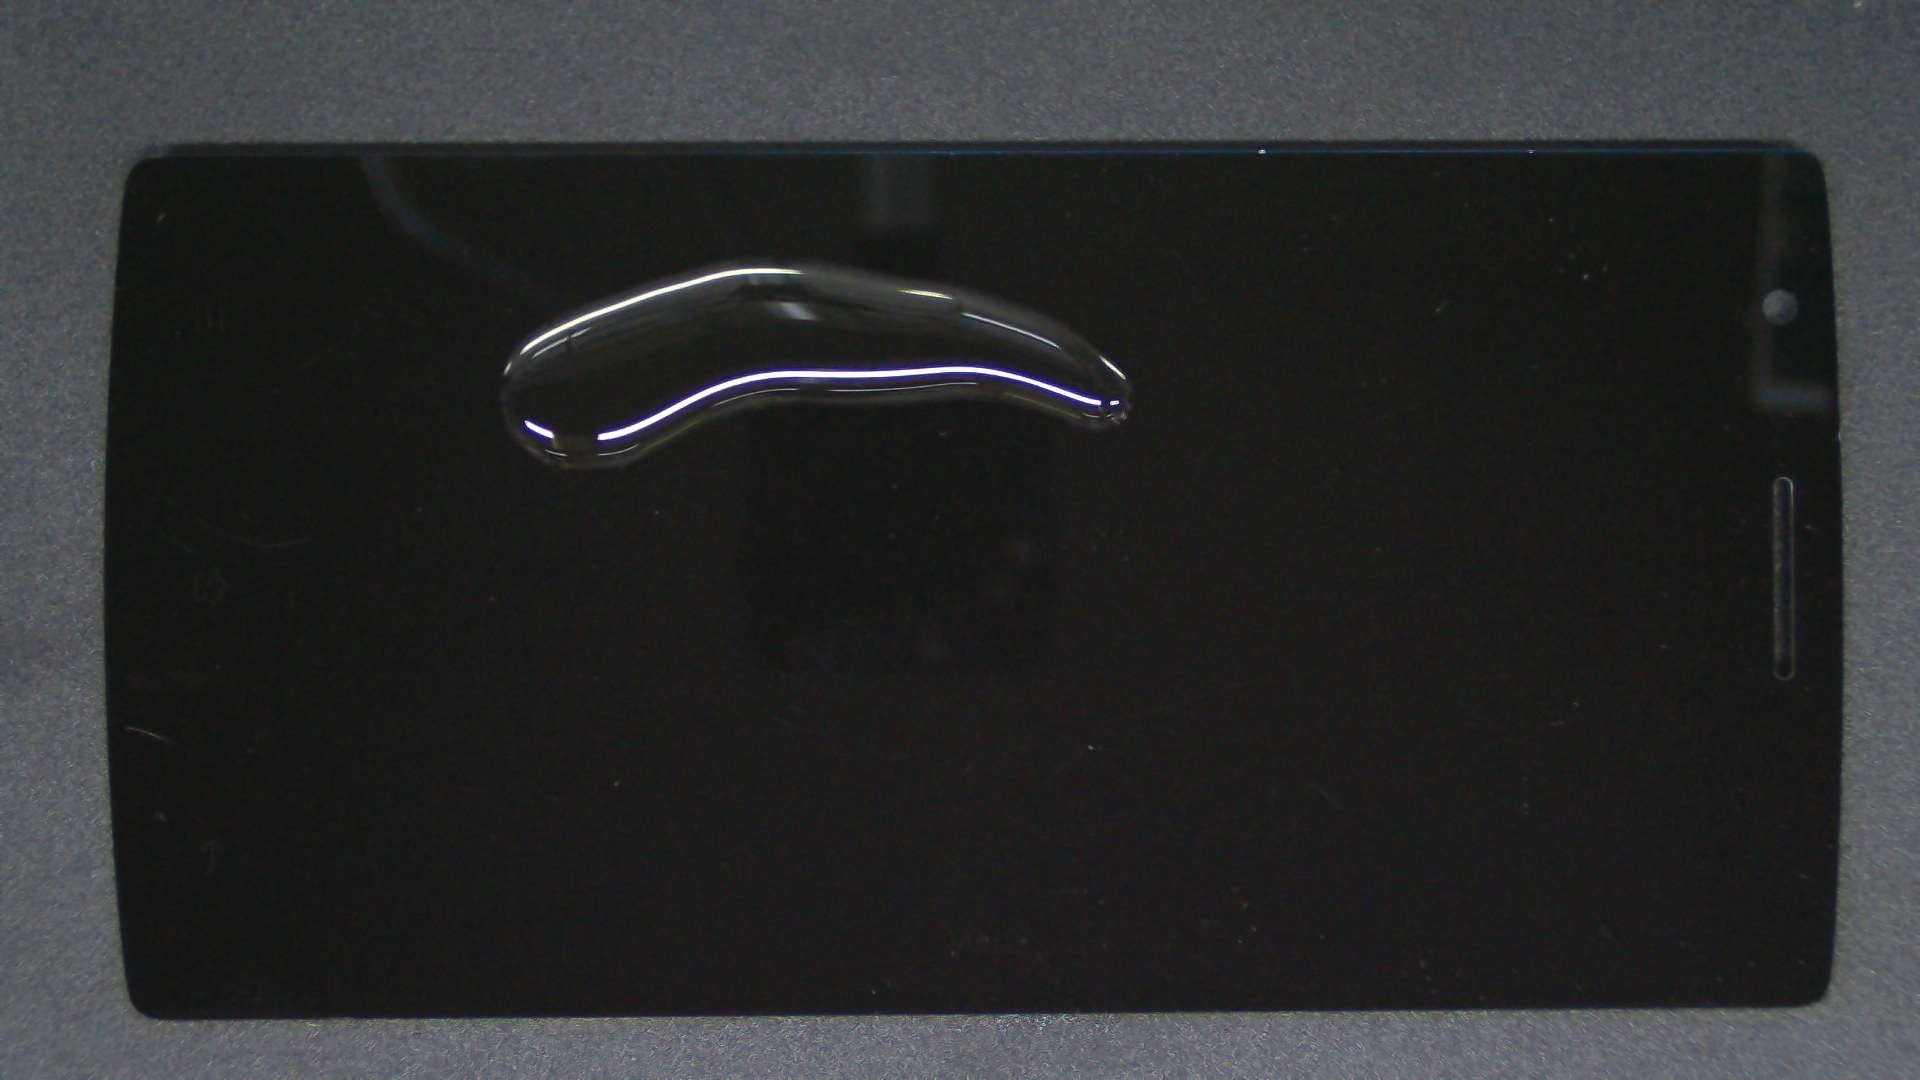oil: (394, 127, 1180, 382)
